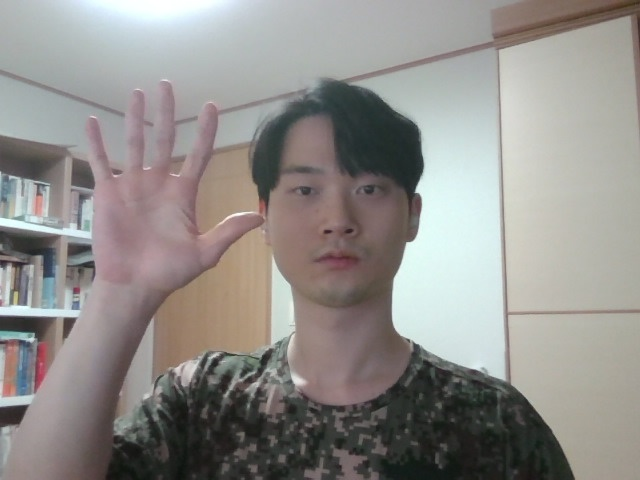hello: (57, 69, 289, 334)
